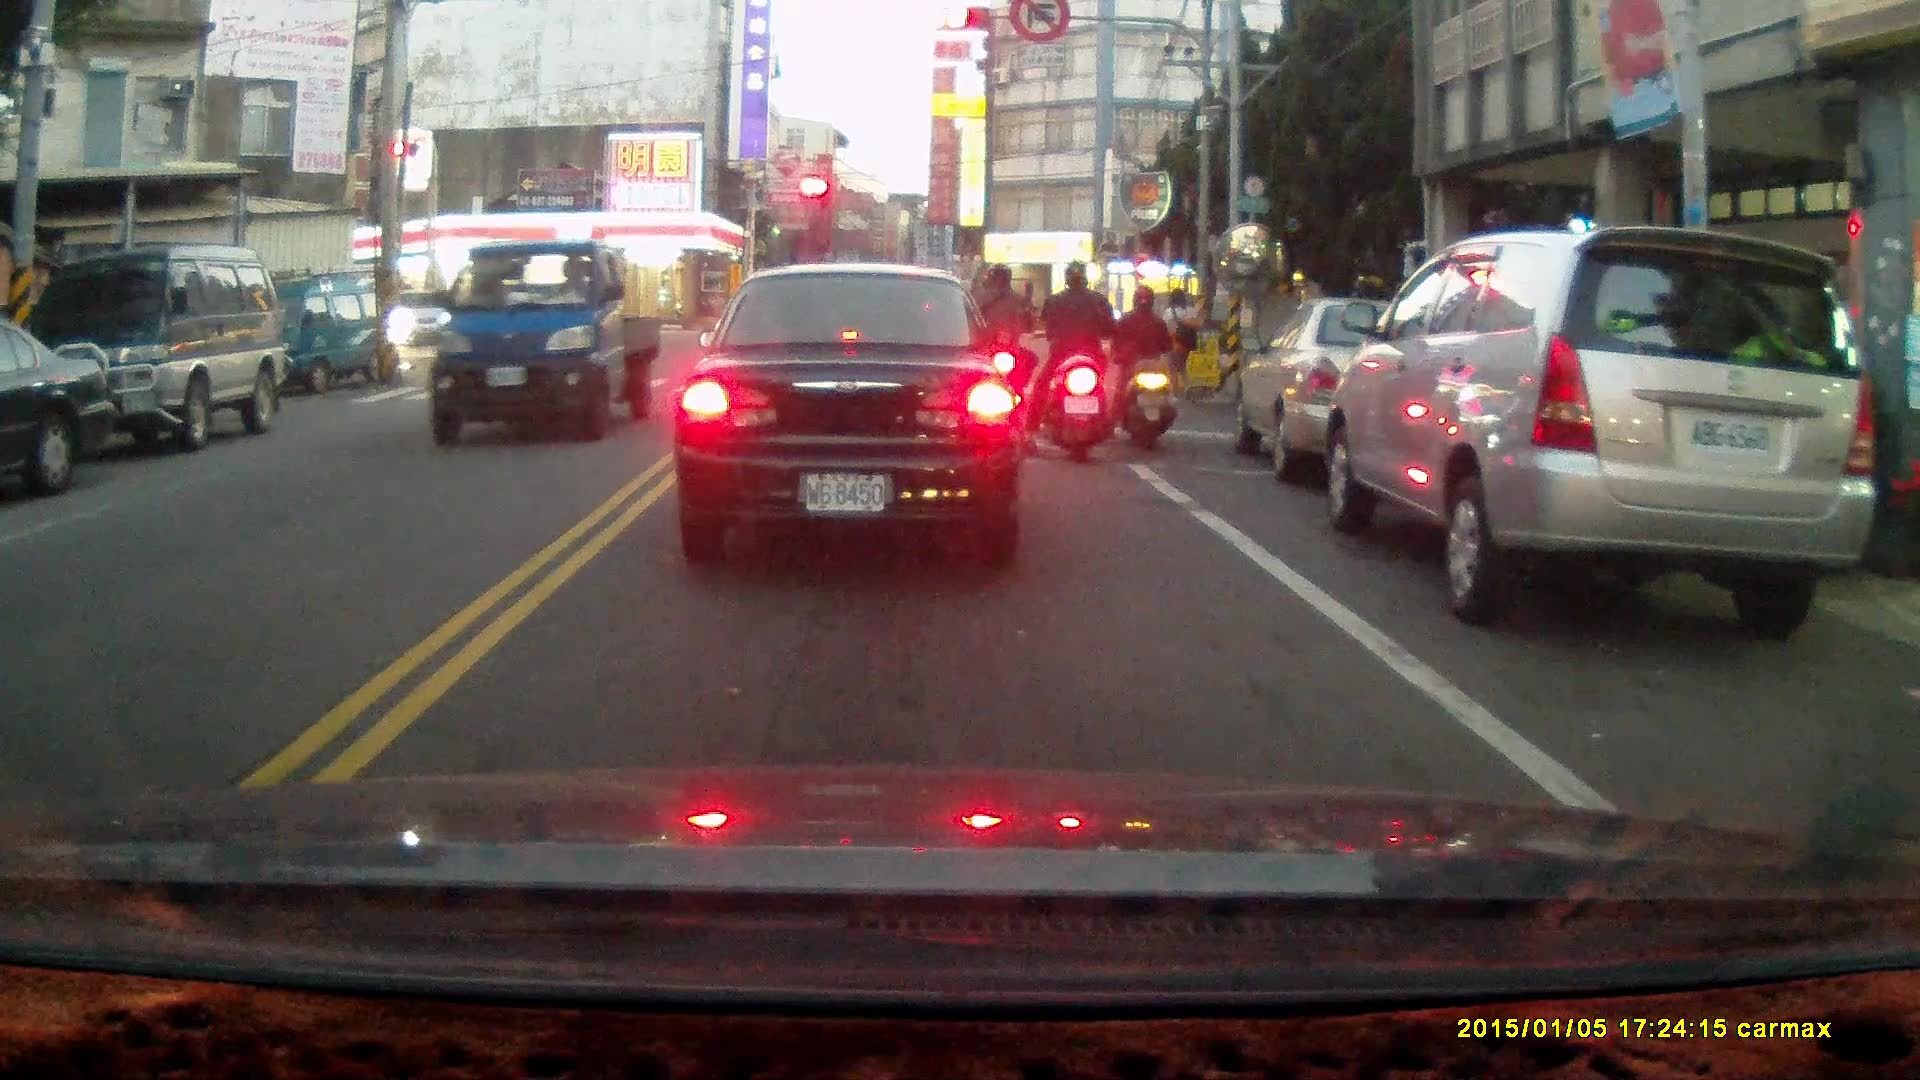pedestrian: (1156, 286, 1203, 407)
rider: (1029, 260, 1126, 461), (964, 262, 1037, 438), (1112, 282, 1178, 450)
vehicle: (1324, 225, 1882, 635), (674, 259, 1028, 563), (12, 238, 283, 458), (1238, 299, 1505, 492), (433, 242, 664, 440), (1, 320, 122, 500), (250, 271, 412, 401)
